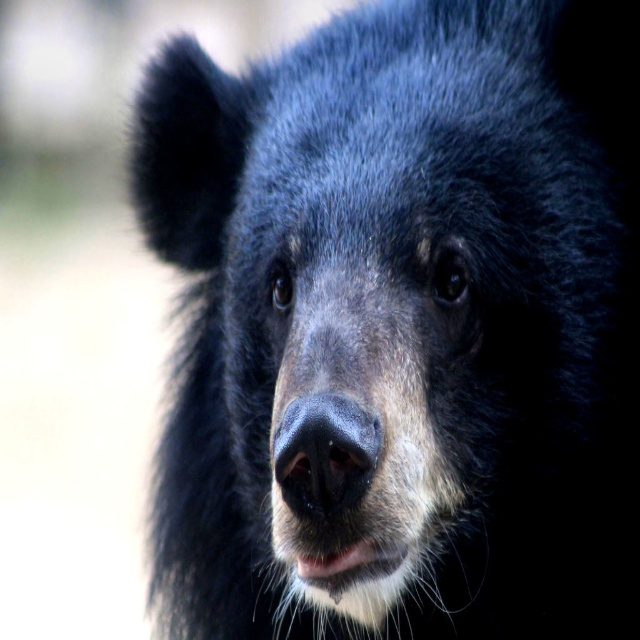Bear: (119, 0, 640, 639)
